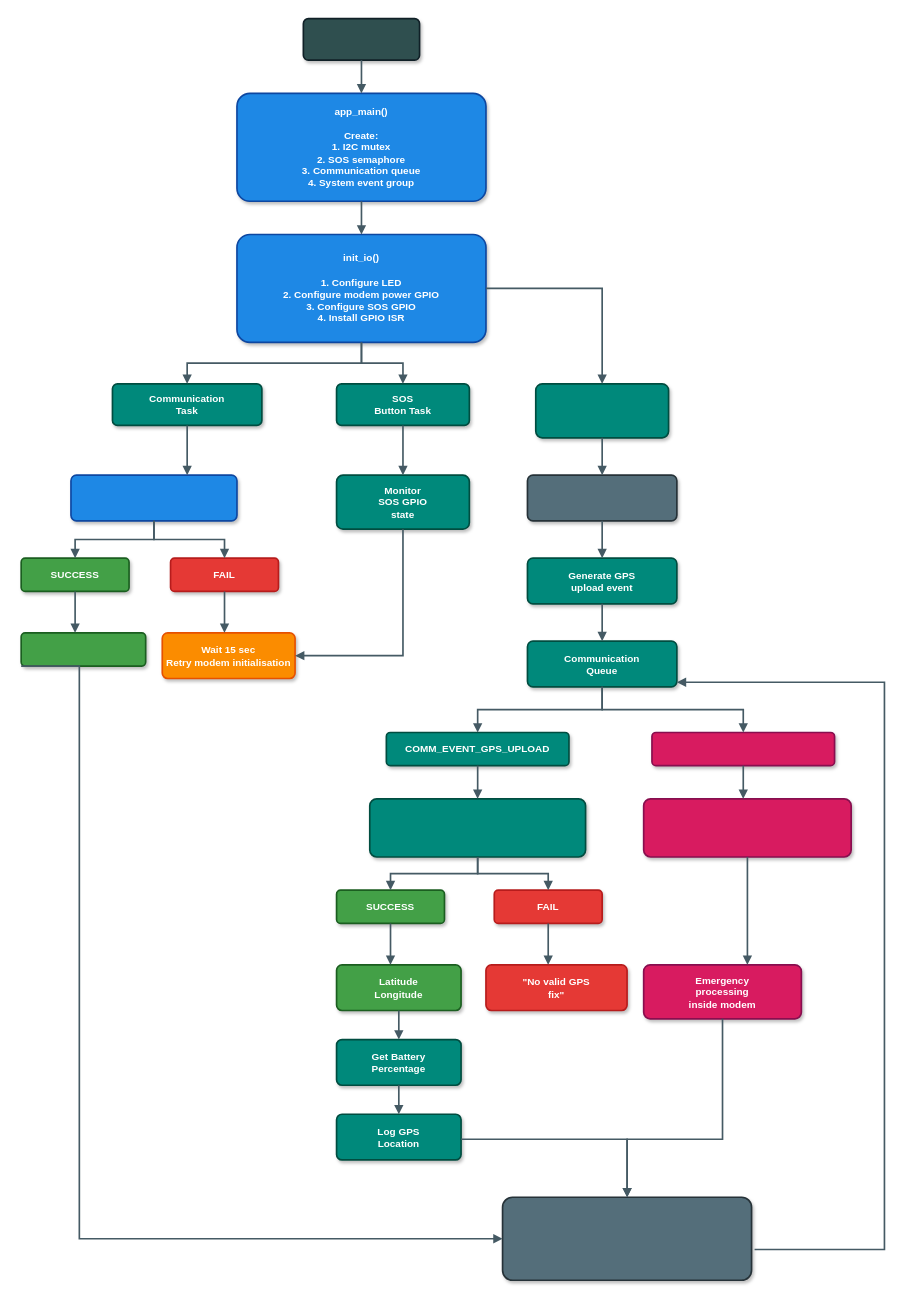
Some shapes in this 906 by 1301 pixel diagram are drawn without their labels. The centre of each missing label's shape, as x and y in pixels:
COMM_EVENT_EMERGENCY: the point at 743,750
Get GPS Coordinates gl868_modem_get_gps_coordinates(): the point at 478,828
GPS Upload Task: the point at 602,411
MODEM_READY: the point at 84,650
POWER ON: the point at 362,40
SIM868 modem initialization: the point at 154,499
Trigger Emergency gl868_modem_trigger_emergency(): the point at 748,828
WAIT FOR EVENT Communication queue blocks until next event is received: the point at 627,1239
Wait for MODEM_READY: the point at 602,499
